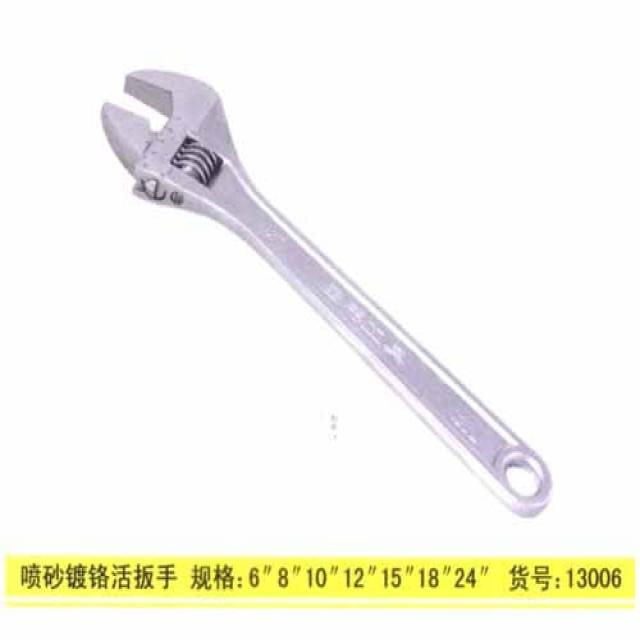wrench: (72, 30, 613, 532)
